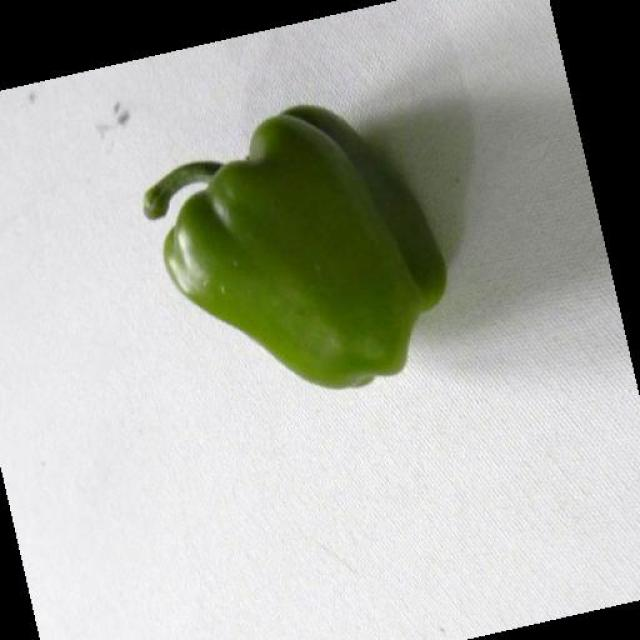Fresh_Capsicum: (158, 173, 430, 356)
